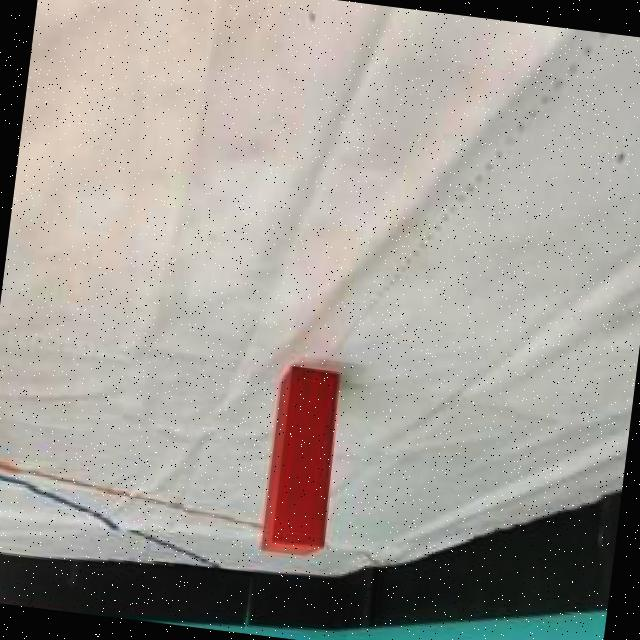redbox: (258, 362, 345, 562)
